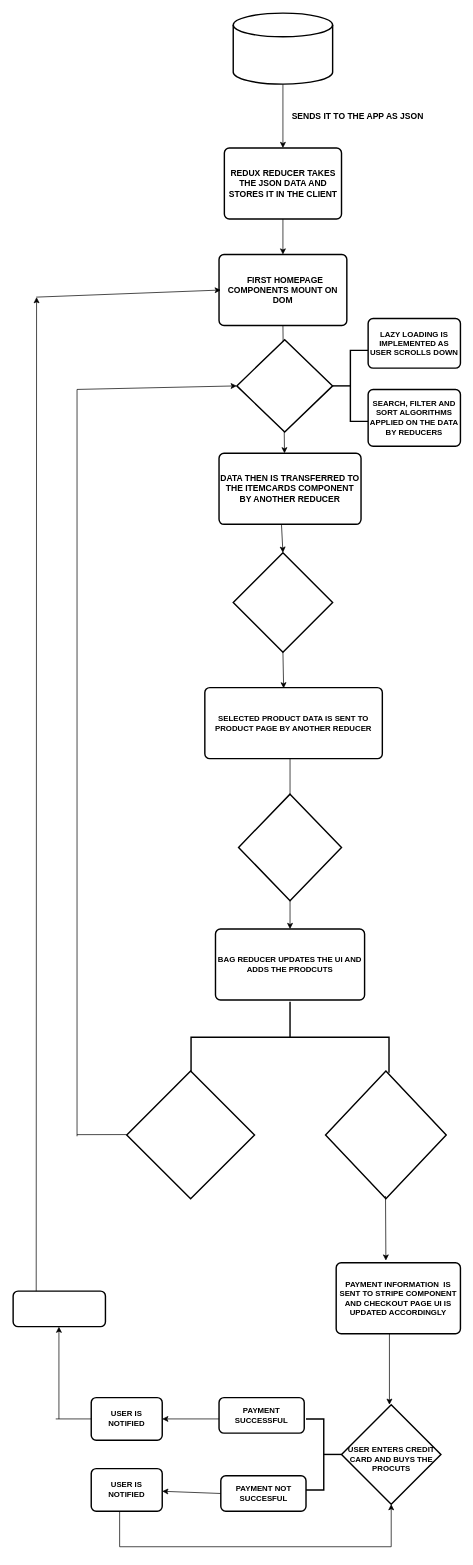
Image size: 473x1565. Some labels were removed from this diagram. The box of each missing label's shape, as (x1, y1, x2, y2) in pixels:
PRODUCTS DATA IN FIREBASE: (232, 12, 333, 84)
USER ADDS PRODCUTS TO THE BAG: (237, 793, 342, 901)
USER CHECKS OUT: (324, 1070, 447, 1199)
USER CHOOSES A PRODUCT: (232, 552, 333, 652)
USER IS REDIRECTED TO HOMEPAGE: (12, 1290, 106, 1327)
USER KEEPS ON SHOPPING BY CLICKING SHOP PAGE AGAIN: (126, 1070, 255, 1199)
USER NAVIGATES TO SHOP PAGE: (236, 339, 333, 432)
